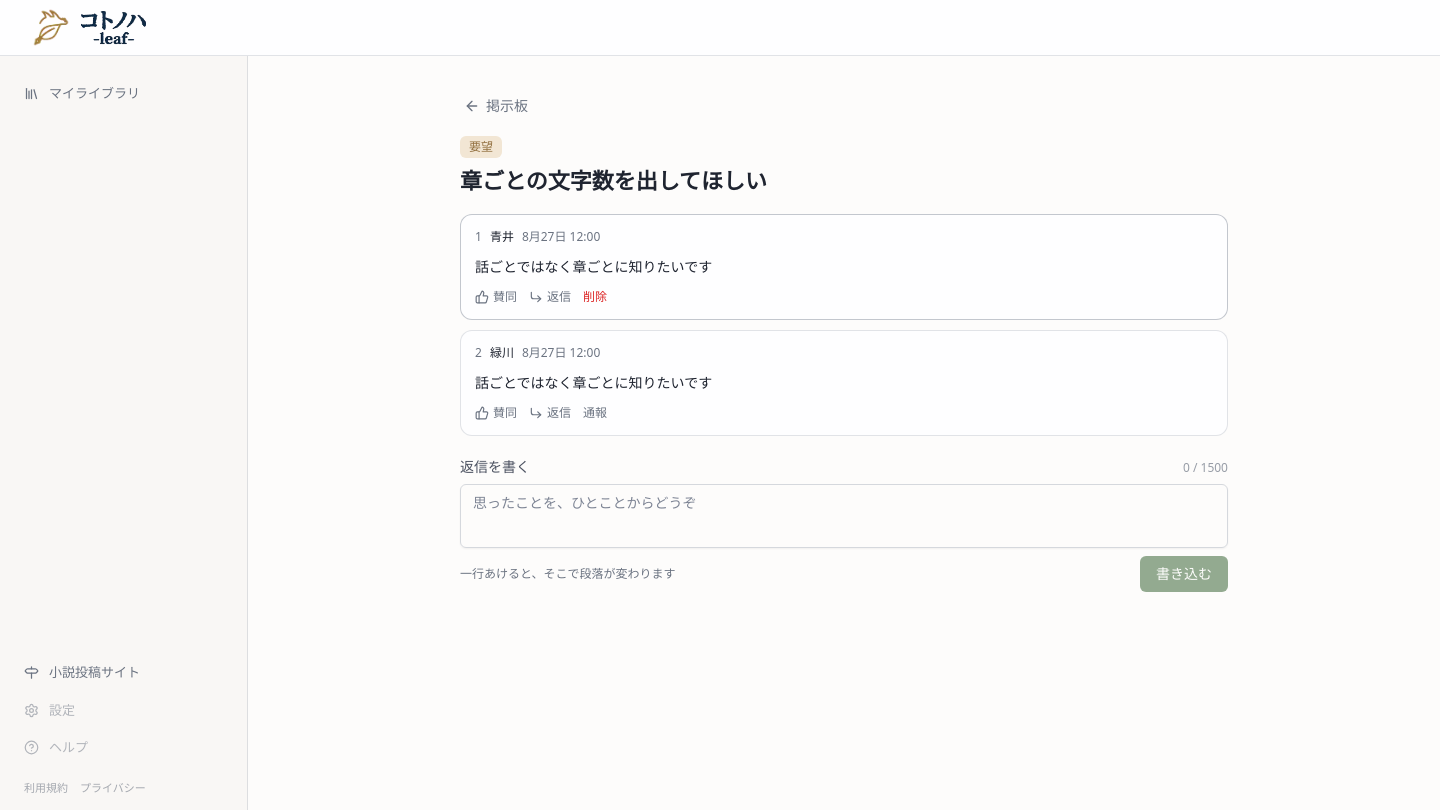
Test: ThreadView — 自分のスレの削除（D-BOARD-DELETE） › 返信のあるスレでは「返信は残る」と先に伝える
The image size is (1440, 810).
Click the button "削除" at [595, 297], box [583,289,607,305]
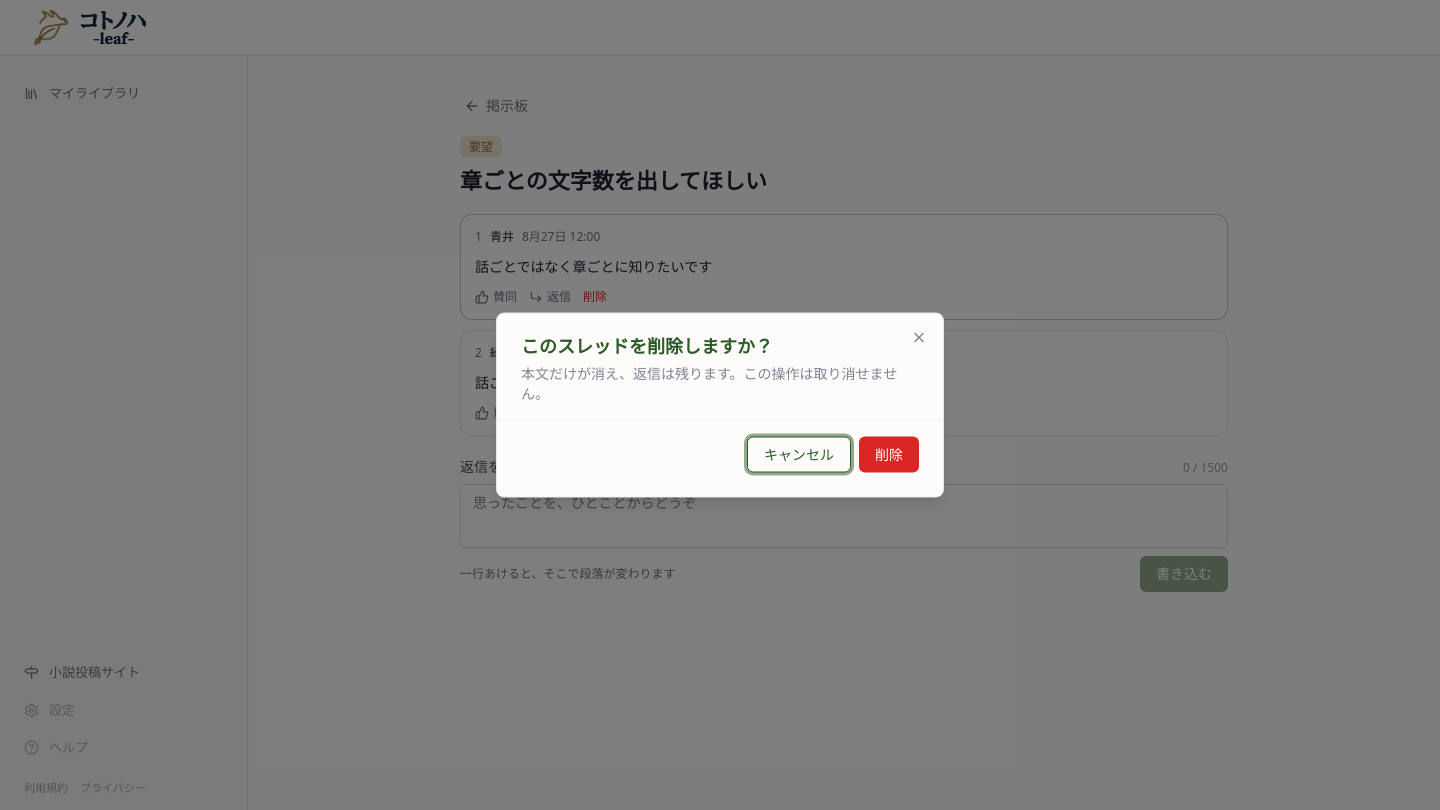
Expected: the heading "このスレッドを削除しますか？" is shown, [521,336,773,356]
Expected: the text "本文だけが消え、返信は残ります。この操作は取り消せません。" is shown, [521,364,919,404]
